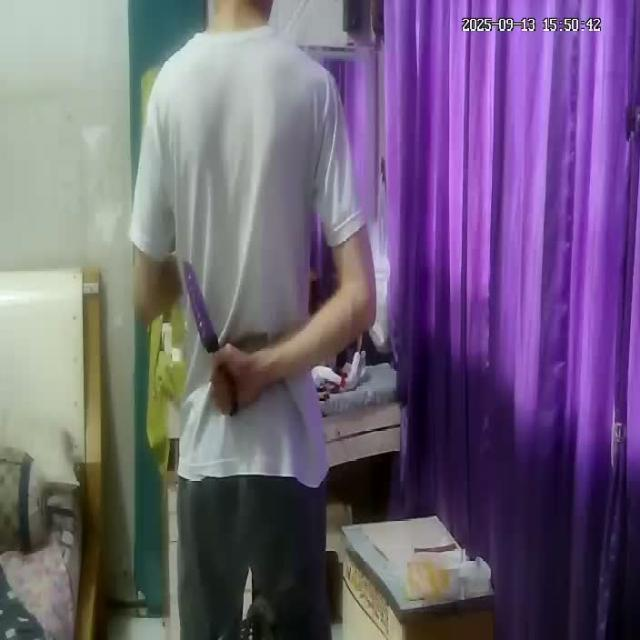senjata_tajam: (178, 256, 222, 356)
